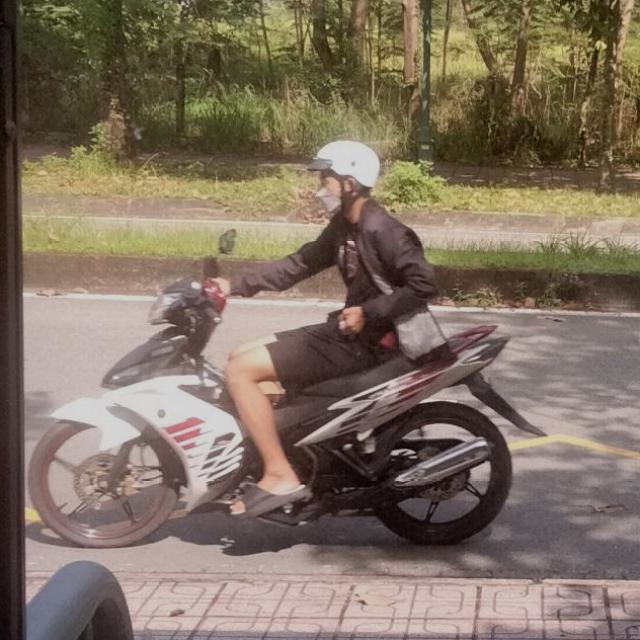Helmet: (304, 136, 383, 222)
